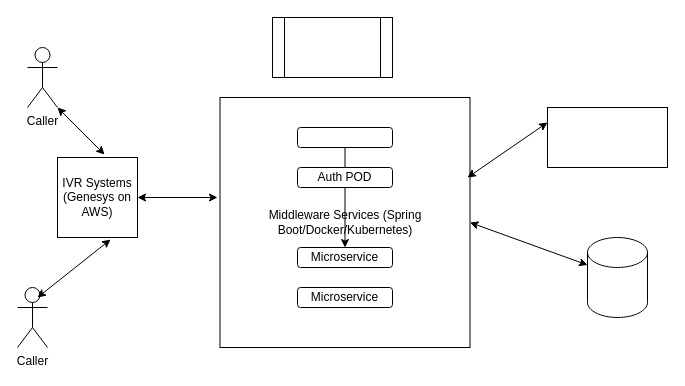
Image size: 685x386. Some labels were removed from this diagram. The centre of each missing label's shape, as x and y in pixels:
"Back end services such as legacy SOAP service" belongs at point 607,137.
"Database" belongs at point 617,277.
"MIRATECH MIDDLEWARE TEAM OWNS THIS" belongs at point 332,47.
"System POD" belongs at point 344,137.
